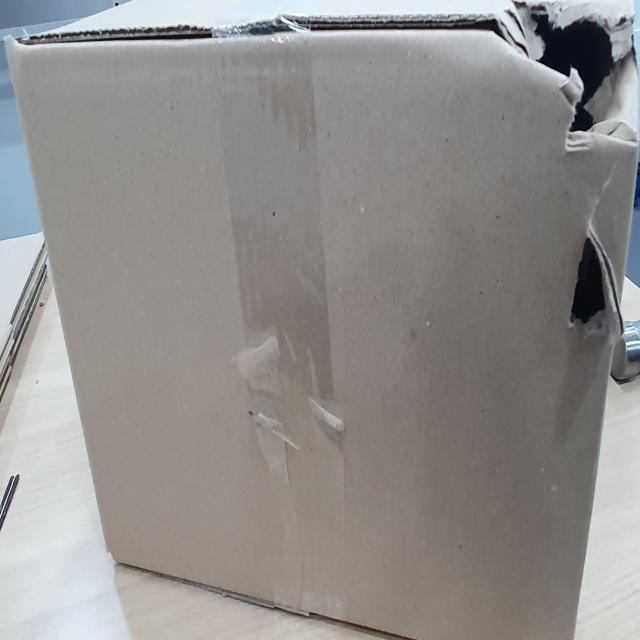damaged: (494, 0, 638, 156), (560, 216, 624, 350)
